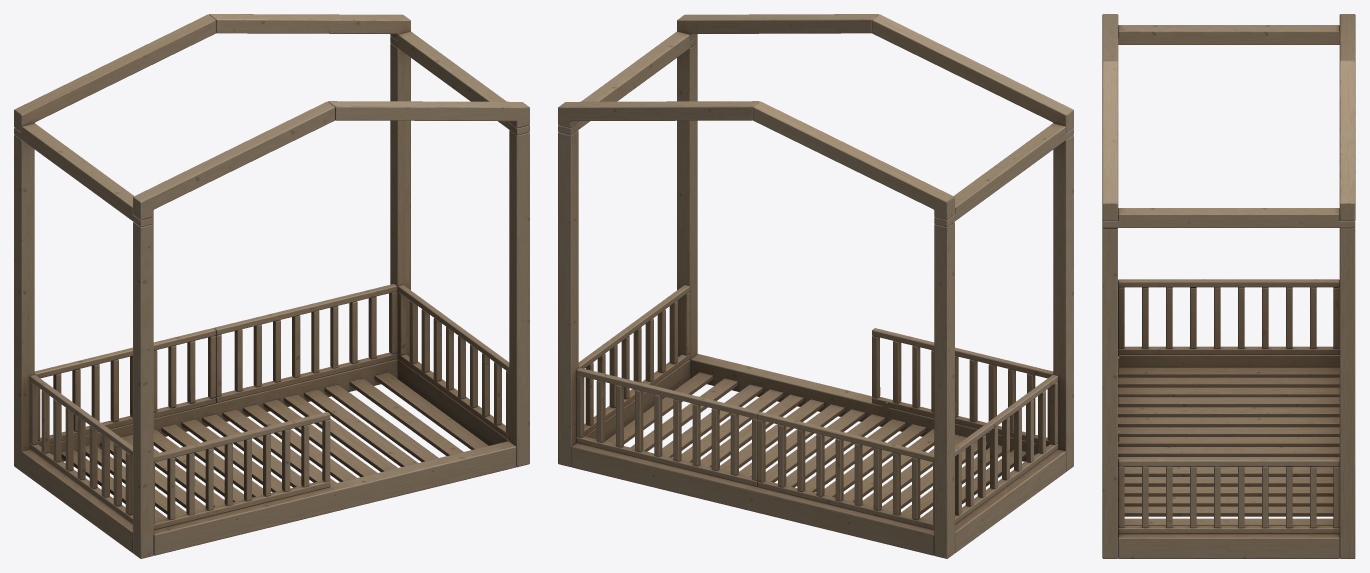
The picture shows the model from 3 angles, left to right: view 1: azimuth 30°, elevation 25°; view 2: azimuth 150°, elevation 25°; view 3: azimuth 270°, elevation 25°; orthographic projection.
Parts seen in each view (by area): view 1: 190x80; view 2: 190x80; view 3: 190x80.
Boxes of the visible parts, x1,y1,x2,y2 form: 190x80: (14, 14, 529, 558); 190x80: (558, 14, 1073, 558); 190x80: (1102, 14, 1355, 558).
Bounding box in the file's own units: 1.72 × 1.71 × 0.9703.
Materials: 1 (1 with a texture image).
